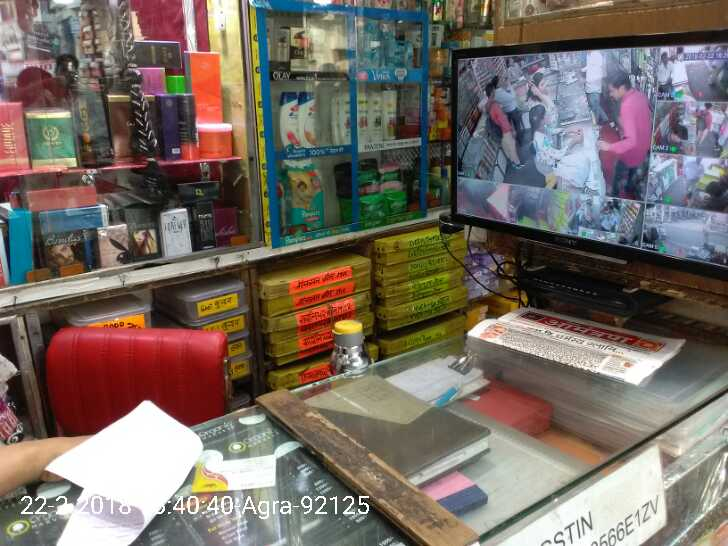gillete: (181, 93, 200, 161)
venus: (365, 22, 386, 65), (386, 40, 413, 65)
